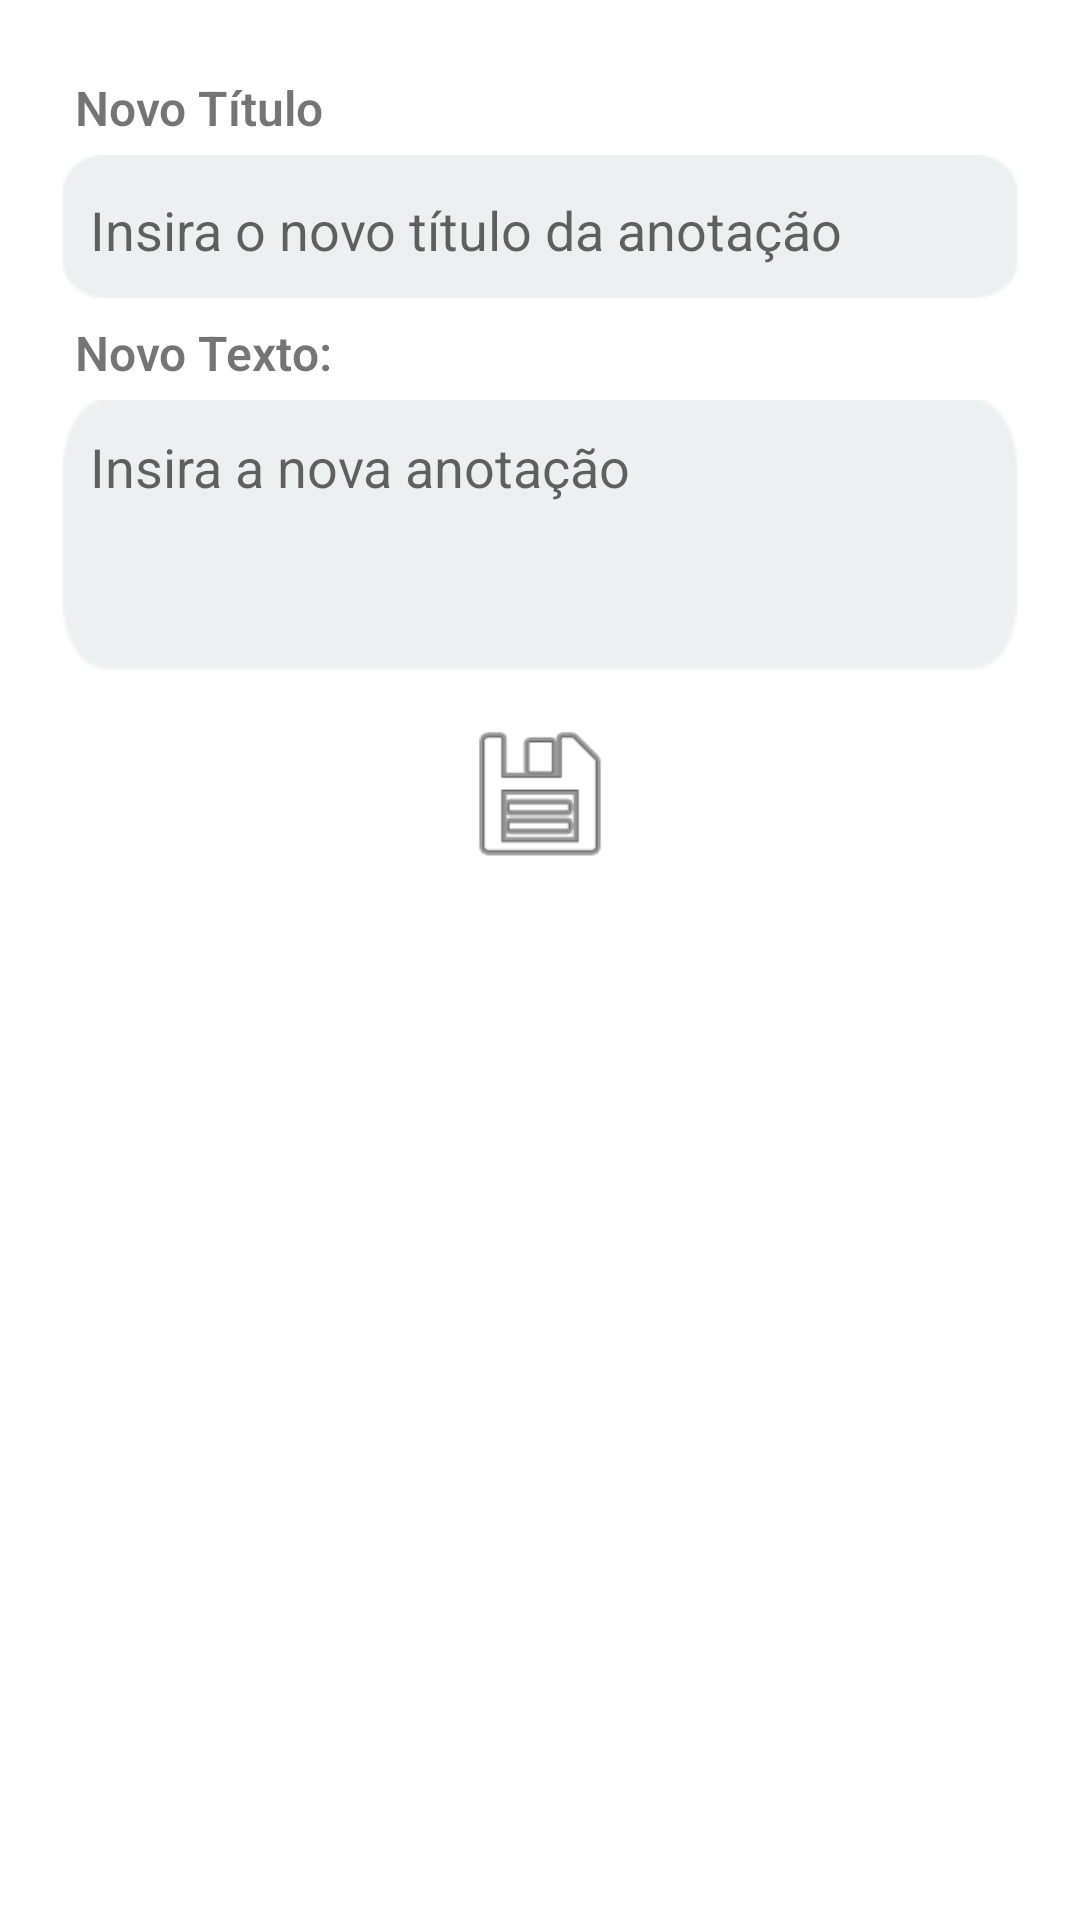

Where icons sit on this 1080 × 1920 app screen, as rect(x1, y1, x2, y2):
Icone salvar: rect(479, 732, 601, 856)
